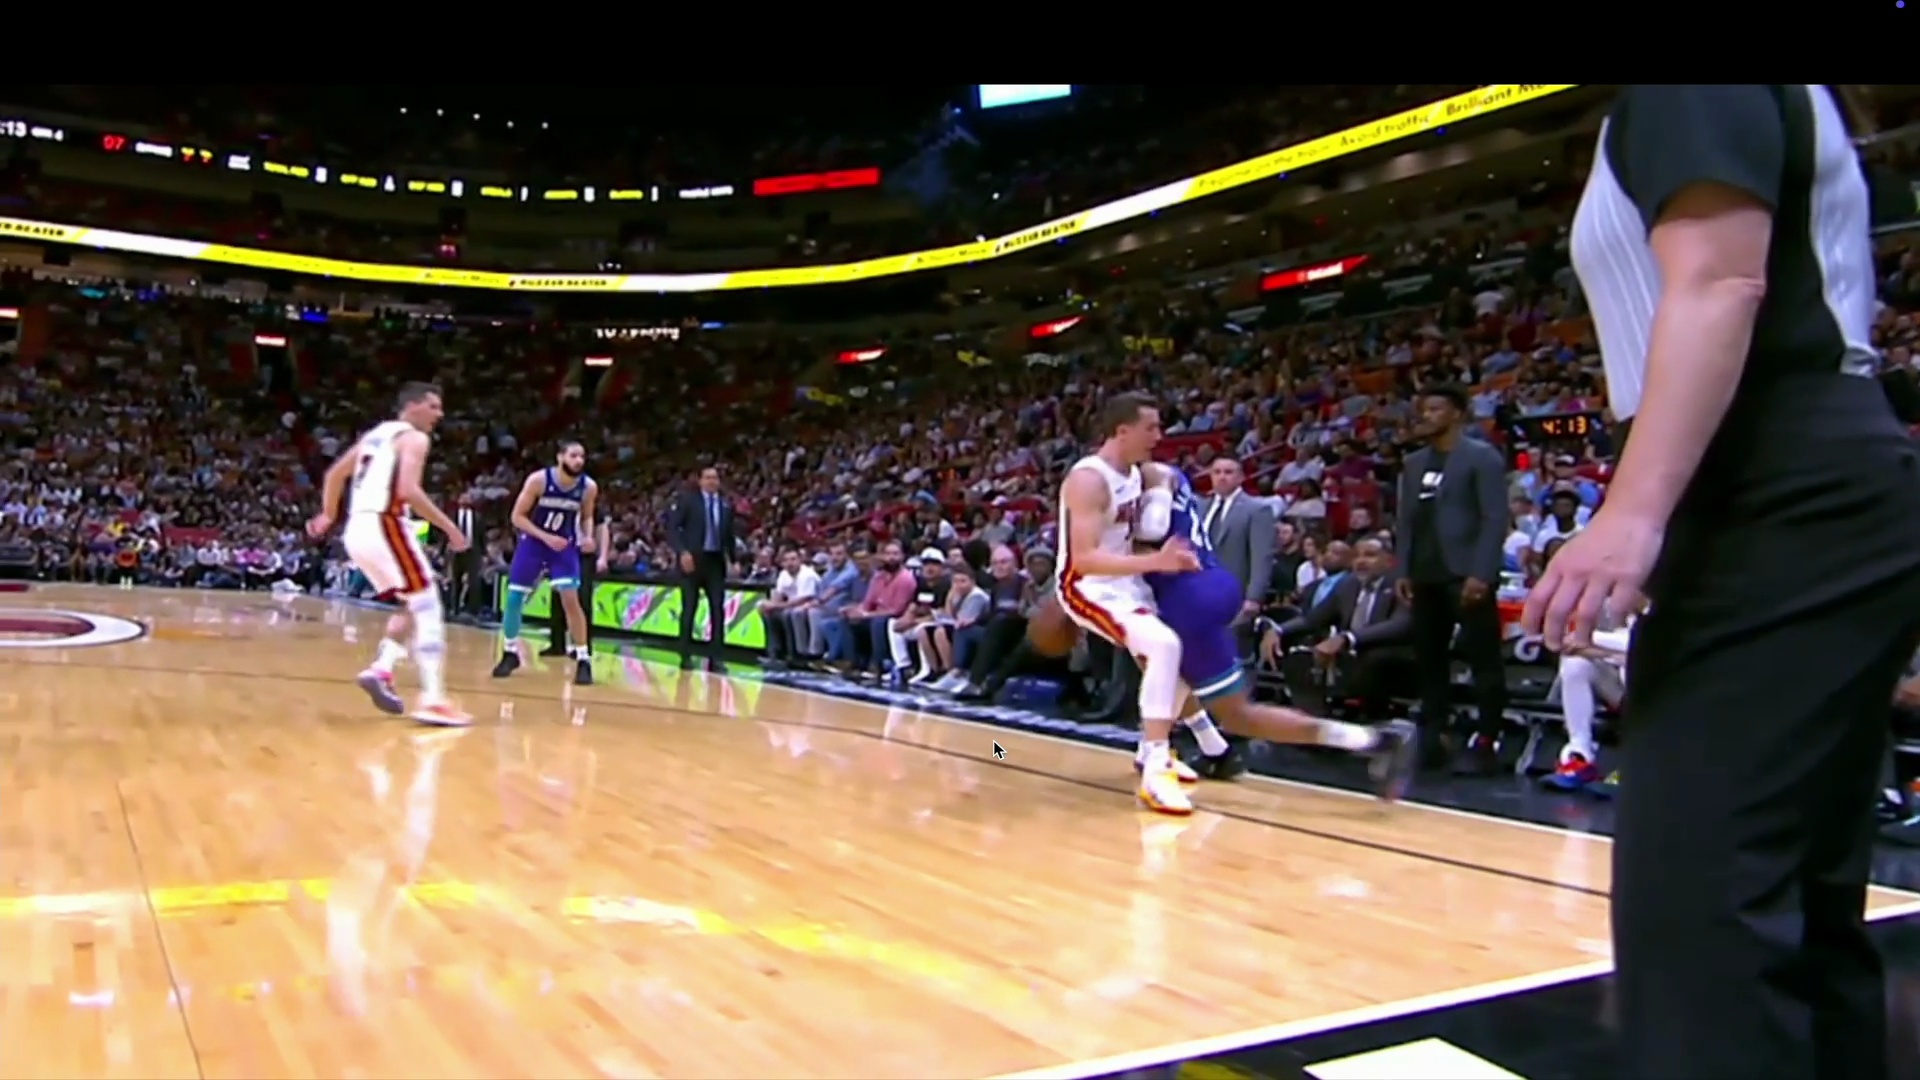Foul_moment: (1073, 452, 1199, 573)
Player: (1032, 395, 1167, 809), (323, 394, 468, 732), (1090, 479, 1196, 798), (523, 431, 605, 697)
